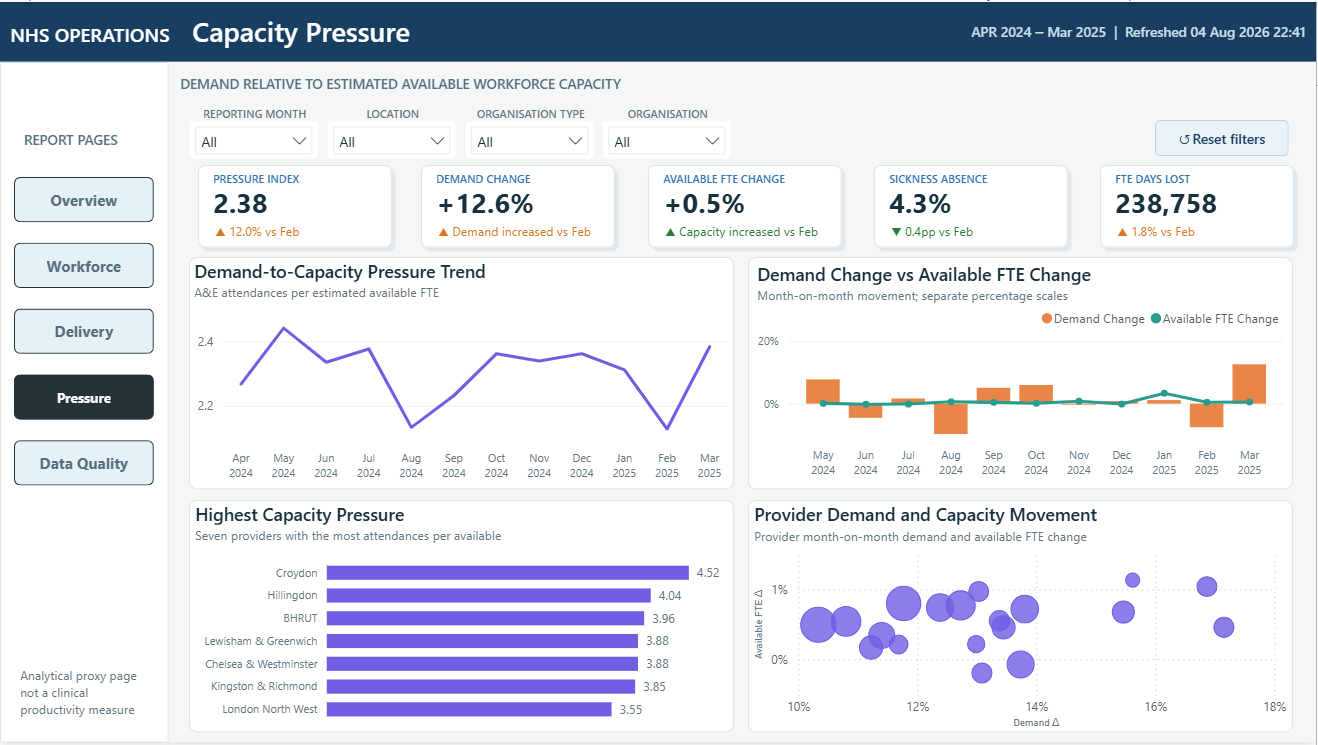

What the dashboard file says about the page in this screenshot:
{"tool":"powerbi","page":{"name":"Pressure","canvas":[1280,720],"ordinal":3},"visuals":[{"type":"shape","box":[0,58,164,662],"z":0},{"type":"shape","box":[404,153,200.2,92],"z":0,"group":"g4"},{"type":"shape","box":[1064,153,200.2,92],"z":0,"group":"g2"},{"type":"shape","box":[0,0,1280,58],"z":1000},{"type":"shape","box":[624,153,200,92],"z":1000,"group":"g5"},{"type":"cardVisual","fields":{"Data":["_Measures.Demand Change Card Value"]},"box":[419.2,177,169.7,31],"z":1000,"group":"g4"},{"type":"cardVisual","fields":{"Data":["_Measures.FTE Days Lost Card Value"]},"box":[1079.2,177,169.7,31],"z":1000,"group":"g2"},{"type":"textbox","box":[5,5,550,47],"z":2000},{"type":"shape","box":[186.7,152.7,200,92],"z":2000,"group":"g3"},{"type":"cardVisual","fields":{"Data":["_Measures.Demand Change Card Delta"]},"box":[419.2,212,165,20],"z":2000,"group":"g4"},{"type":"cardVisual","fields":{"Data":["_Measures.FTE Days Lost Card Delta"]},"box":[1079.2,212,161.5,20],"z":2000,"group":"g2"},{"type":"cardVisual","fields":{"Data":["_Measures.Latest Refresh Label"]},"box":[1085,10,190,35],"z":3000},{"type":"shape","box":[844,153,200,92],"z":3000,"group":"g1"},{"type":"textbox","box":[419.2,163,140,17],"z":3000,"group":"g4"},{"type":"textbox","box":[1079.2,163,128.8,17],"z":3000,"group":"g2"},{"type":"textbox","box":[940,11,148,35],"z":4000},{"type":"group","id":"g1","title":"Group 1","box":[844,153,200,92],"z":5000},{"type":"pageNavigator","box":[14,170,136,300],"z":6000},{"type":"textbox","box":[15,120,130,30],"z":7000},{"type":"textbox","box":[15,640,140,65],"z":8000},{"type":"textbox","box":[170.2,65.2,452.3,30.2],"z":9000},{"type":"slicer","title":"REPORTING MONTH","fields":{"Values":["DimDate.MonthLabel"]},"box":[184,100,126,53],"z":10000},{"type":"slicer","title":"LOCATION","fields":{"Values":["DataQualityRuleResults.ReportingMonth"]},"box":[318,100,126,53],"z":11000},{"type":"slicer","title":"ORGANISATION TYPE","fields":{"Values":["DataQualityRuleResults.RecordStatus"]},"box":[452,100,126,53],"z":12000},{"type":"slicer","title":"ORGANISATION","fields":{"Values":["dimOrganisation.CanonicalOrganisationName"]},"box":[586,100,126,53],"z":13000},{"type":"actionButton","box":[1123,115,130,35],"z":14000},{"type":"group","id":"g2","title":"Group 3","box":[1064,153,200,91.9],"z":15000},{"type":"group","id":"g3","title":"Group 2","box":[186.7,152.7,200,92],"z":16000},{"type":"group","id":"g4","title":"Group 3","box":[404,153,200.2,92],"z":17000},{"type":"group","id":"g5","title":"Group 3","box":[624,153,200,92],"z":18000},{"type":"lineChart","title":"Demand-to-Capacity Pressure Trend","fields":{"Category":["DimDate.MonthLabel"],"Y":["_Measures.Attendances per Available FTE"]},"box":[184,248,530,226],"z":19000},{"type":"lineClusteredColumnComboChart","title":"Demand Change vs Available FTE Change","fields":{"Category":["DimDate.MonthLabel"],"Y":["_Measures.Demand Change % by Month"],"Y2":["_Measures.Available FTE Change % by Month"]},"box":[728,248,530,226],"z":20000},{"type":"clusteredBarChart","title":"Highest Capacity Pressure","fields":{"Category":["dimOrganisation.Organisation Compact Name"],"Y":["_Measures.Attendances per Available FTE Latest"]},"box":[184,484,530,226],"z":21000},{"type":"textbox","box":[201.9,162.7,128.7,17],"z":22000,"group":"g3"},{"type":"scatterChart","title":"Provider Demand and Capacity Movement","fields":{"X":["_Measures.Demand Change %"],"Y":["_Measures.Available FTE Change %"],"Size":["_Measures.Total Attendances Latest"],"Category":["dimOrganisation.Organisation Short Name"]},"box":[728,484,530,226],"z":22000},{"type":"textbox","box":[639.2,163,163.7,17],"z":23000,"group":"g5"},{"type":"textbox","box":[859.2,163,128.7,17],"z":23000,"group":"g1"},{"type":"cardVisual","fields":{"Data":["_Measures.Pressure Index Card Value"]},"box":[201.9,176.7,169.6,31],"z":26000,"group":"g3"},{"type":"cardVisual","fields":{"Data":["_Measures.Available FTE Change Card Value"]},"box":[639.2,177,169.6,31],"z":27000,"group":"g5"},{"type":"cardVisual","fields":{"Data":["_Measures.Sickness Absence Card Value"]},"box":[859.2,177,169.6,31],"z":28000,"group":"g1"},{"type":"cardVisual","fields":{"Data":["_Measures.Pressure Index Card Delta"]},"box":[201.9,211.7,161.4,20],"z":30000,"group":"g3"},{"type":"cardVisual","fields":{"Data":["_Measures.Available FTE Change Card Delta"]},"box":[639.2,212,169.6,20],"z":31000,"group":"g5"},{"type":"cardVisual","fields":{"Data":["_Measures.Sickness Absence Card Delta"]},"box":[859.2,212,161.4,20],"z":33000,"group":"g1"}]}

Visuals, with their boxes in screenshot pixels (x1, y1, x2, y2), scaled from the page's 1280x720 canvas onto the 1318x745 screenshot:
shape: 0/60/169/744
shape: 416/158/622/254
shape: 1096/158/1302/254
shape: 0/0/1317/60
shape: 643/158/848/254
cardVisual - _Measures.Demand Change Card Value: 432/183/606/215
cardVisual - _Measures.FTE Days Lost Card Value: 1111/183/1286/215
textbox: 5/5/571/54
shape: 192/158/398/253
cardVisual - _Measures.Demand Change Card Delta: 432/219/602/240
cardVisual - _Measures.FTE Days Lost Card Delta: 1111/219/1278/240
cardVisual - _Measures.Latest Refresh Label: 1117/10/1313/47
shape: 869/158/1075/254
textbox: 432/169/576/186
textbox: 1111/169/1244/186
textbox: 968/11/1120/48
"Group 1" group: 869/158/1075/254
pageNavigator: 14/176/154/486
textbox: 15/124/149/155
textbox: 15/662/160/729
textbox: 175/67/641/99
"REPORTING MONTH" slicer: 189/103/319/158
"LOCATION" slicer: 327/103/457/158
"ORGANISATION TYPE" slicer: 465/103/595/158
"ORGANISATION" slicer: 603/103/733/158
actionButton: 1156/119/1290/155
"Group 3" group: 1096/158/1302/253
"Group 2" group: 192/158/398/253
"Group 3" group: 416/158/622/254
"Group 3" group: 643/158/848/254
"Demand-to-Capacity Pressure Trend" lineChart: 189/257/735/490
"Demand Change vs Available FTE Change" lineClusteredColumnComboChart: 750/257/1295/490
"Highest Capacity Pressure" clusteredBarChart: 189/501/735/735
textbox: 208/168/340/186
"Provider Demand and Capacity Movement" scatterChart: 750/501/1295/735
textbox: 658/169/827/186
textbox: 885/169/1017/186
cardVisual - _Measures.Pressure Index Card Value: 208/183/383/215
cardVisual - _Measures.Available FTE Change Card Value: 658/183/833/215
cardVisual - _Measures.Sickness Absence Card Value: 885/183/1059/215
cardVisual - _Measures.Pressure Index Card Delta: 208/219/374/240
cardVisual - _Measures.Available FTE Change Card Delta: 658/219/833/240
cardVisual - _Measures.Sickness Absence Card Delta: 885/219/1051/240
